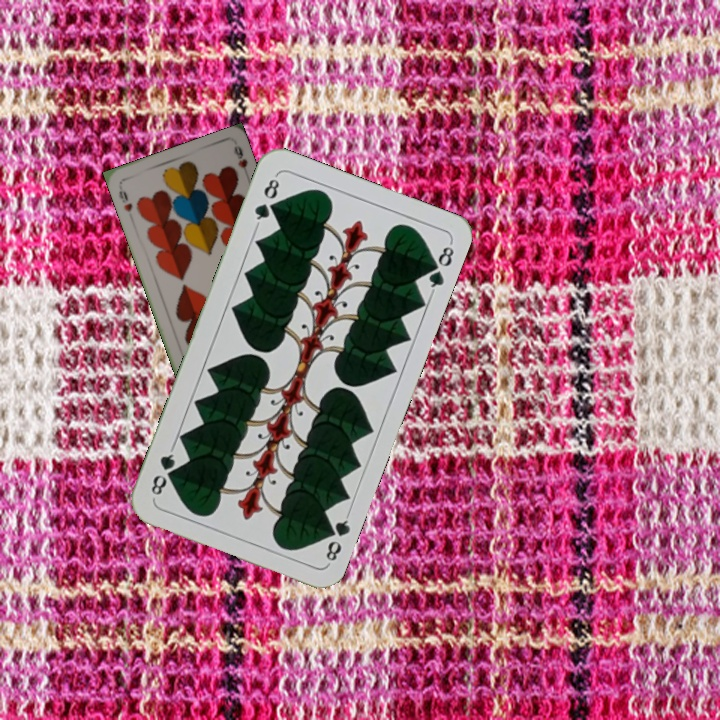G8: (250, 171, 282, 228), (320, 509, 353, 564)
H9: (115, 187, 135, 215)
